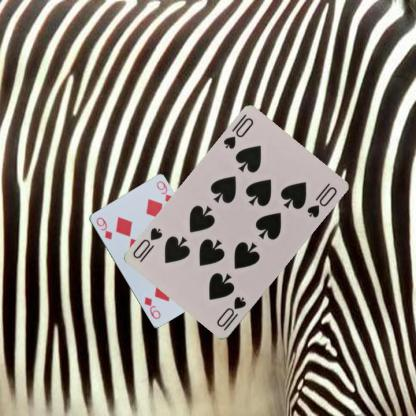10s: (214, 294, 248, 333), (221, 115, 255, 151)
9d: (93, 214, 113, 241)
